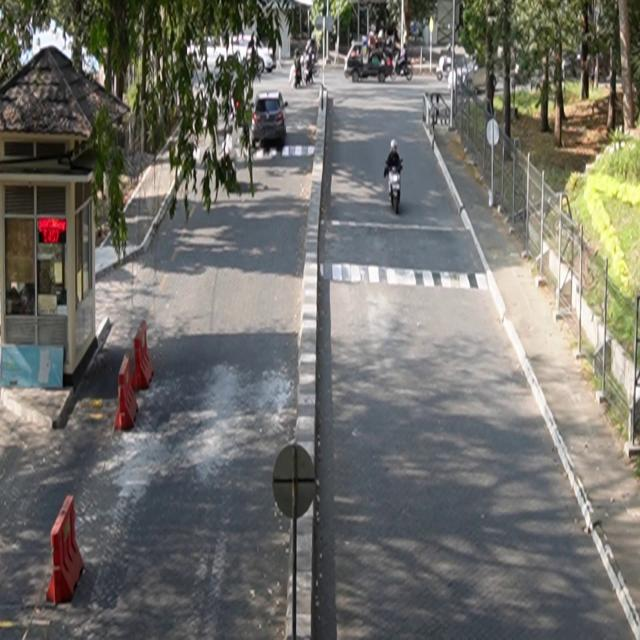car: (251, 91, 289, 150)
